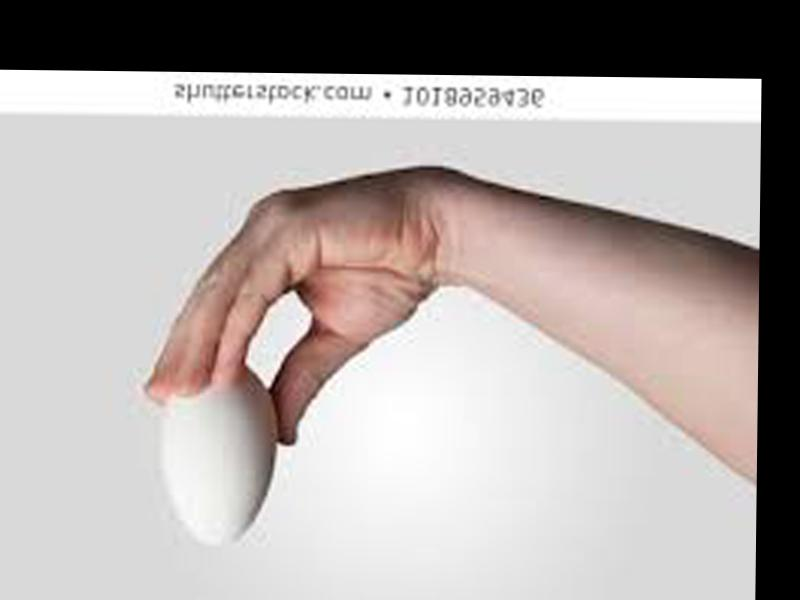Eggs: (155, 361, 278, 549)
